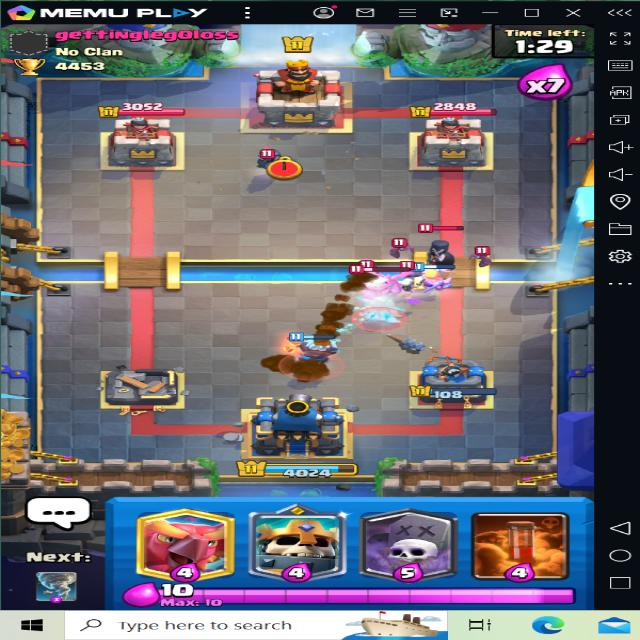baby-dragon: (352, 260, 412, 298)
bats: (461, 242, 499, 266), (390, 235, 417, 256)
mini-pekka: (254, 141, 306, 174)
night-witch: (415, 224, 461, 275)
